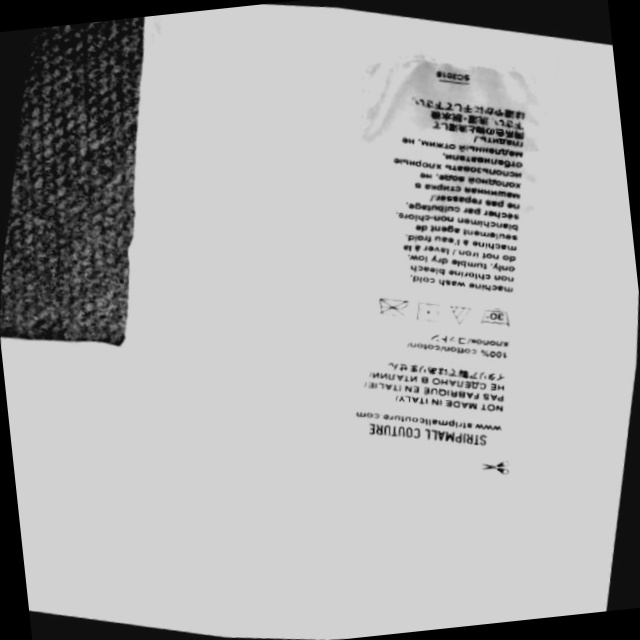30C: (477, 302, 517, 331)
DN_iron: (370, 292, 411, 325)
non_chlorine_bleach: (446, 301, 476, 328)
tumble_dry_low: (412, 297, 449, 326)
